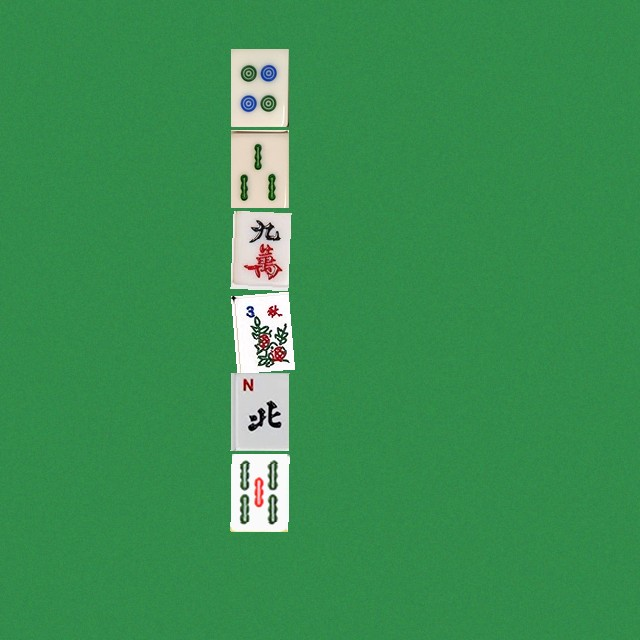tile: (230, 48, 288, 126), (230, 129, 288, 207), (230, 210, 288, 288), (230, 291, 288, 369), (230, 372, 288, 450), (230, 453, 288, 531)
